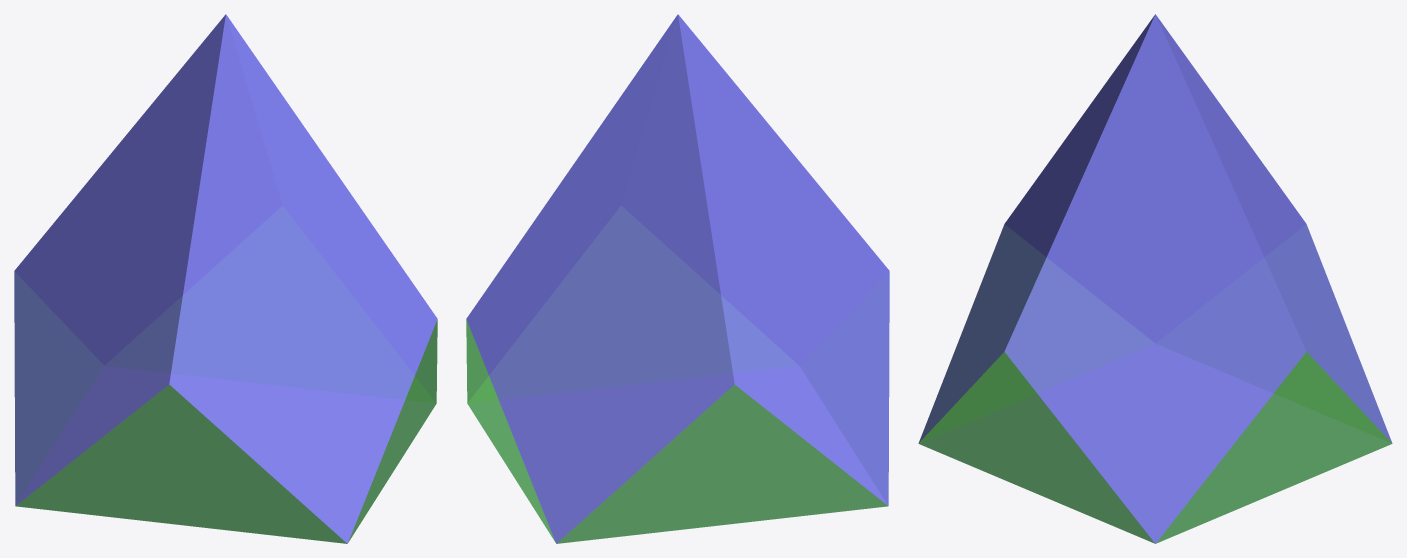
File: pipa4.obj
3 renders of one model, left to right at view 1: azimuth 30°, elevation 25°; view 2: azimuth 150°, elevation 25°; view 3: azimuth 270°, elevation 25°, orthographic. The views are drawn at different scales.
Bounding box in the file's own units: 2 × 2 × 2.
